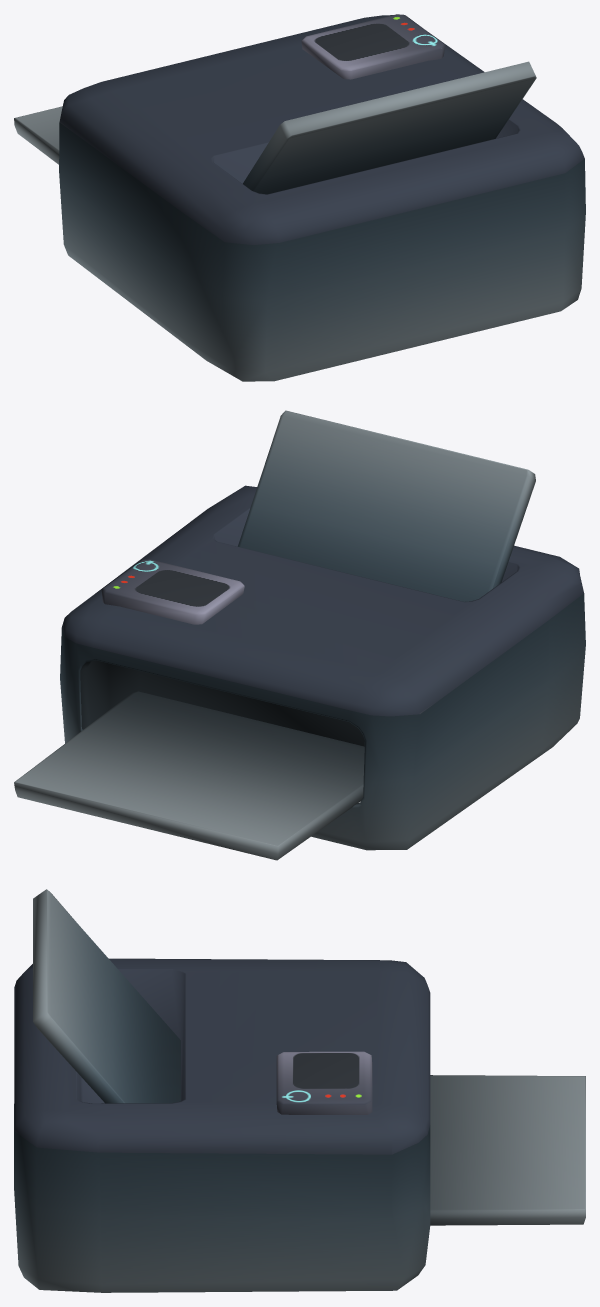
Rendered from mesh_printer_LOD1.fbx.
3 renders of one model, top to bottom at view 1: azimuth 30°, elevation 25°; view 2: azimuth 150°, elevation 25°; view 3: azimuth 270°, elevation 25°, orthographic. The views are drawn at different scales.
Visible parts, largest first — view 1: printer_LOD1; view 2: printer_LOD1; view 3: printer_LOD1.
Part boxes in pixels (x1,y1,x2,y2): printer_LOD1: (14,14,585,381); printer_LOD1: (14,410,585,860); printer_LOD1: (14,889,585,1292).
Size of the model in its own units: 78.04 by 49.57 by 101.
